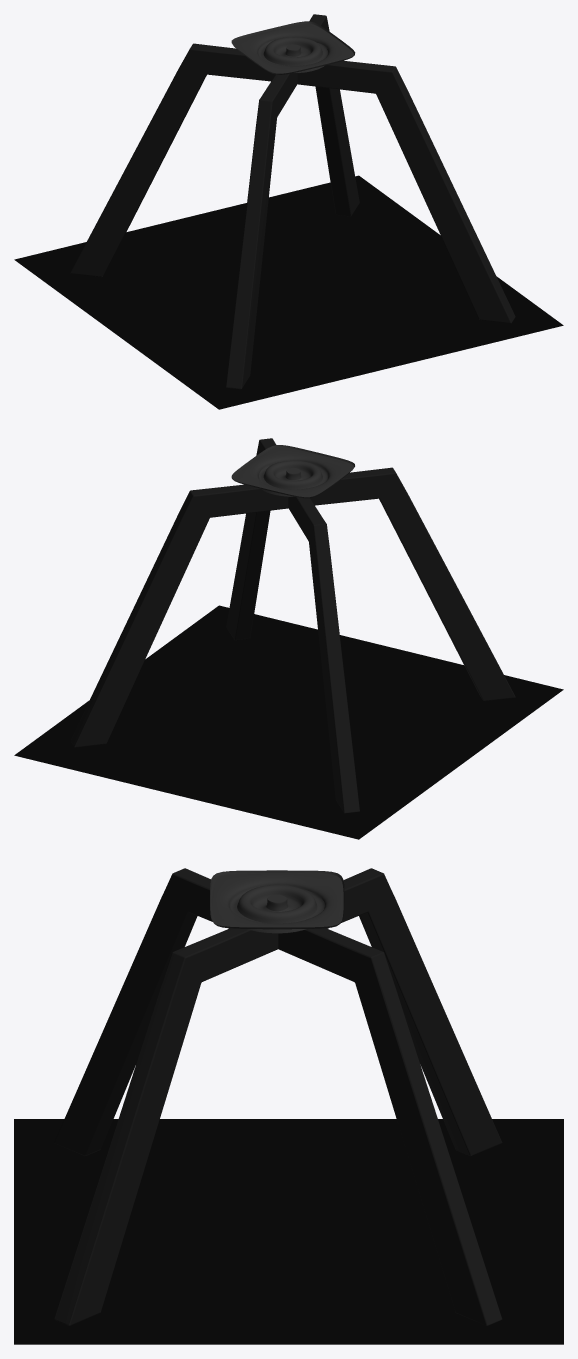
File: Obrotowe.glb
3 views of the same model, one above another, from view 1: azimuth 30°, elevation 25°; view 2: azimuth 150°, elevation 25°; view 3: azimuth 270°, elevation 25° (orthographic). The views are drawn at different scales.
Visible parts, largest first — view 1: Shadow_turntable, Legs_turntable_Black; view 2: Shadow_turntable, Legs_turntable_Black; view 3: Shadow_turntable, Legs_turntable_Black.
Boxes of the visible parts, box(x1,y1,x2,y2) form: Shadow_turntable: box(14, 175, 563, 409); Legs_turntable_Black: box(70, 14, 515, 389); Shadow_turntable: box(14, 605, 563, 839); Legs_turntable_Black: box(70, 438, 515, 813); Shadow_turntable: box(14, 1119, 563, 1344); Legs_turntable_Black: box(54, 868, 502, 1325).
Size of the model in its own units: 0.5956 by 0.41 by 0.6133.
3 materials, 1 textured.
